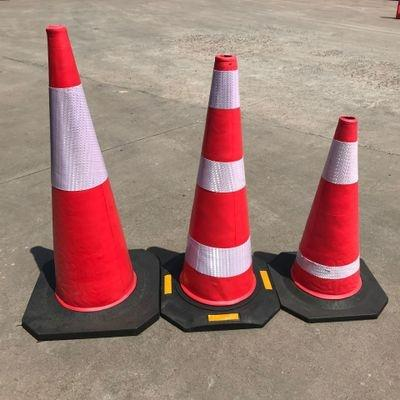cone_barrel: (36, 35, 139, 306), (170, 60, 266, 314), (286, 118, 377, 302)
